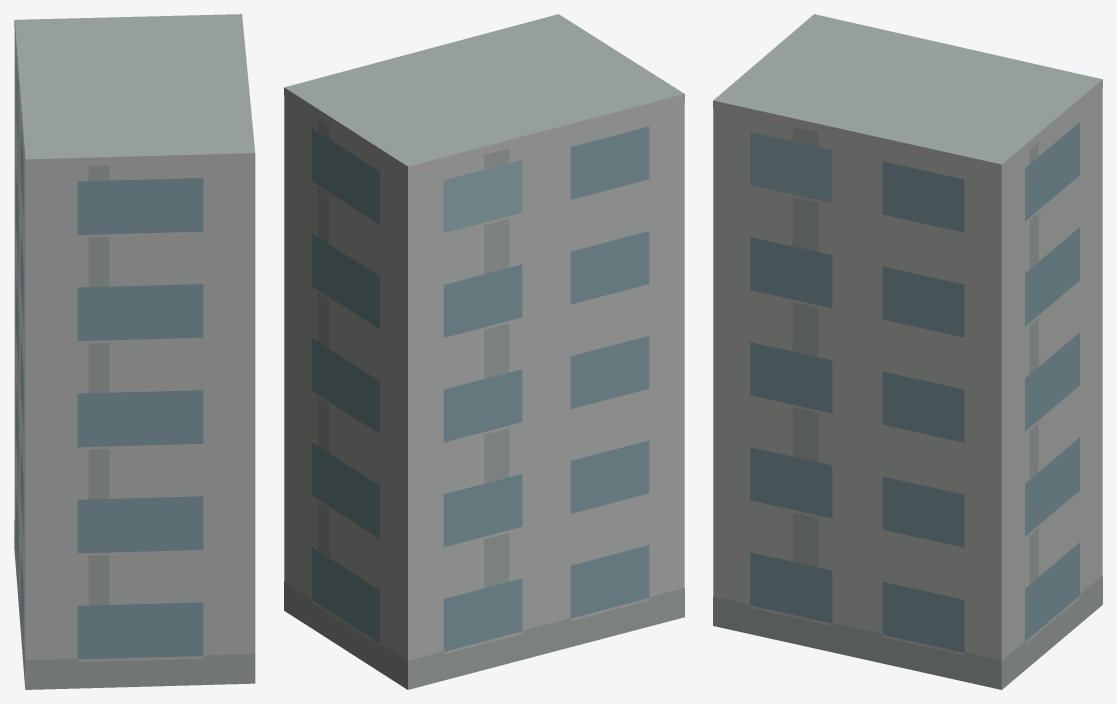
The model's file is survey-upis-32728715.glb.
3 views of the same model, side by side, from view 1: azimuth 30°, elevation 25°; view 2: azimuth 150°, elevation 25°; view 3: azimuth 270°, elevation 25° (orthographic).
Parts seen in each view (by area): view 1: survey-upis-32728715.tmp; view 2: survey-upis-32728715.tmp; view 3: survey-upis-32728715.tmp.
Part boxes in pixels (x1,y1,x2,y2): survey-upis-32728715.tmp: (14, 14, 255, 689); survey-upis-32728715.tmp: (284, 14, 684, 689); survey-upis-32728715.tmp: (713, 14, 1102, 689).
Size of the model in its own units: 9.35 by 15.2 by 10.23.
